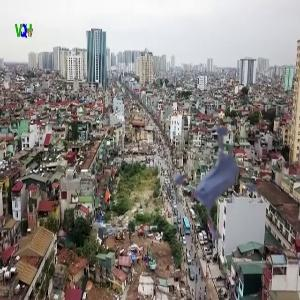drone: (149, 103, 276, 230)
